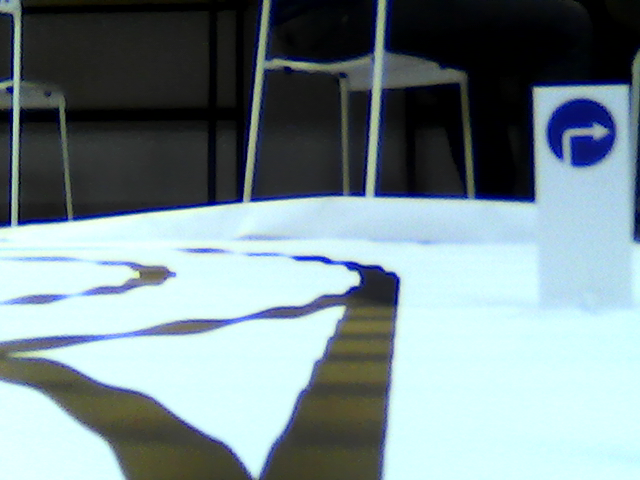Right: (549, 99, 615, 171)
